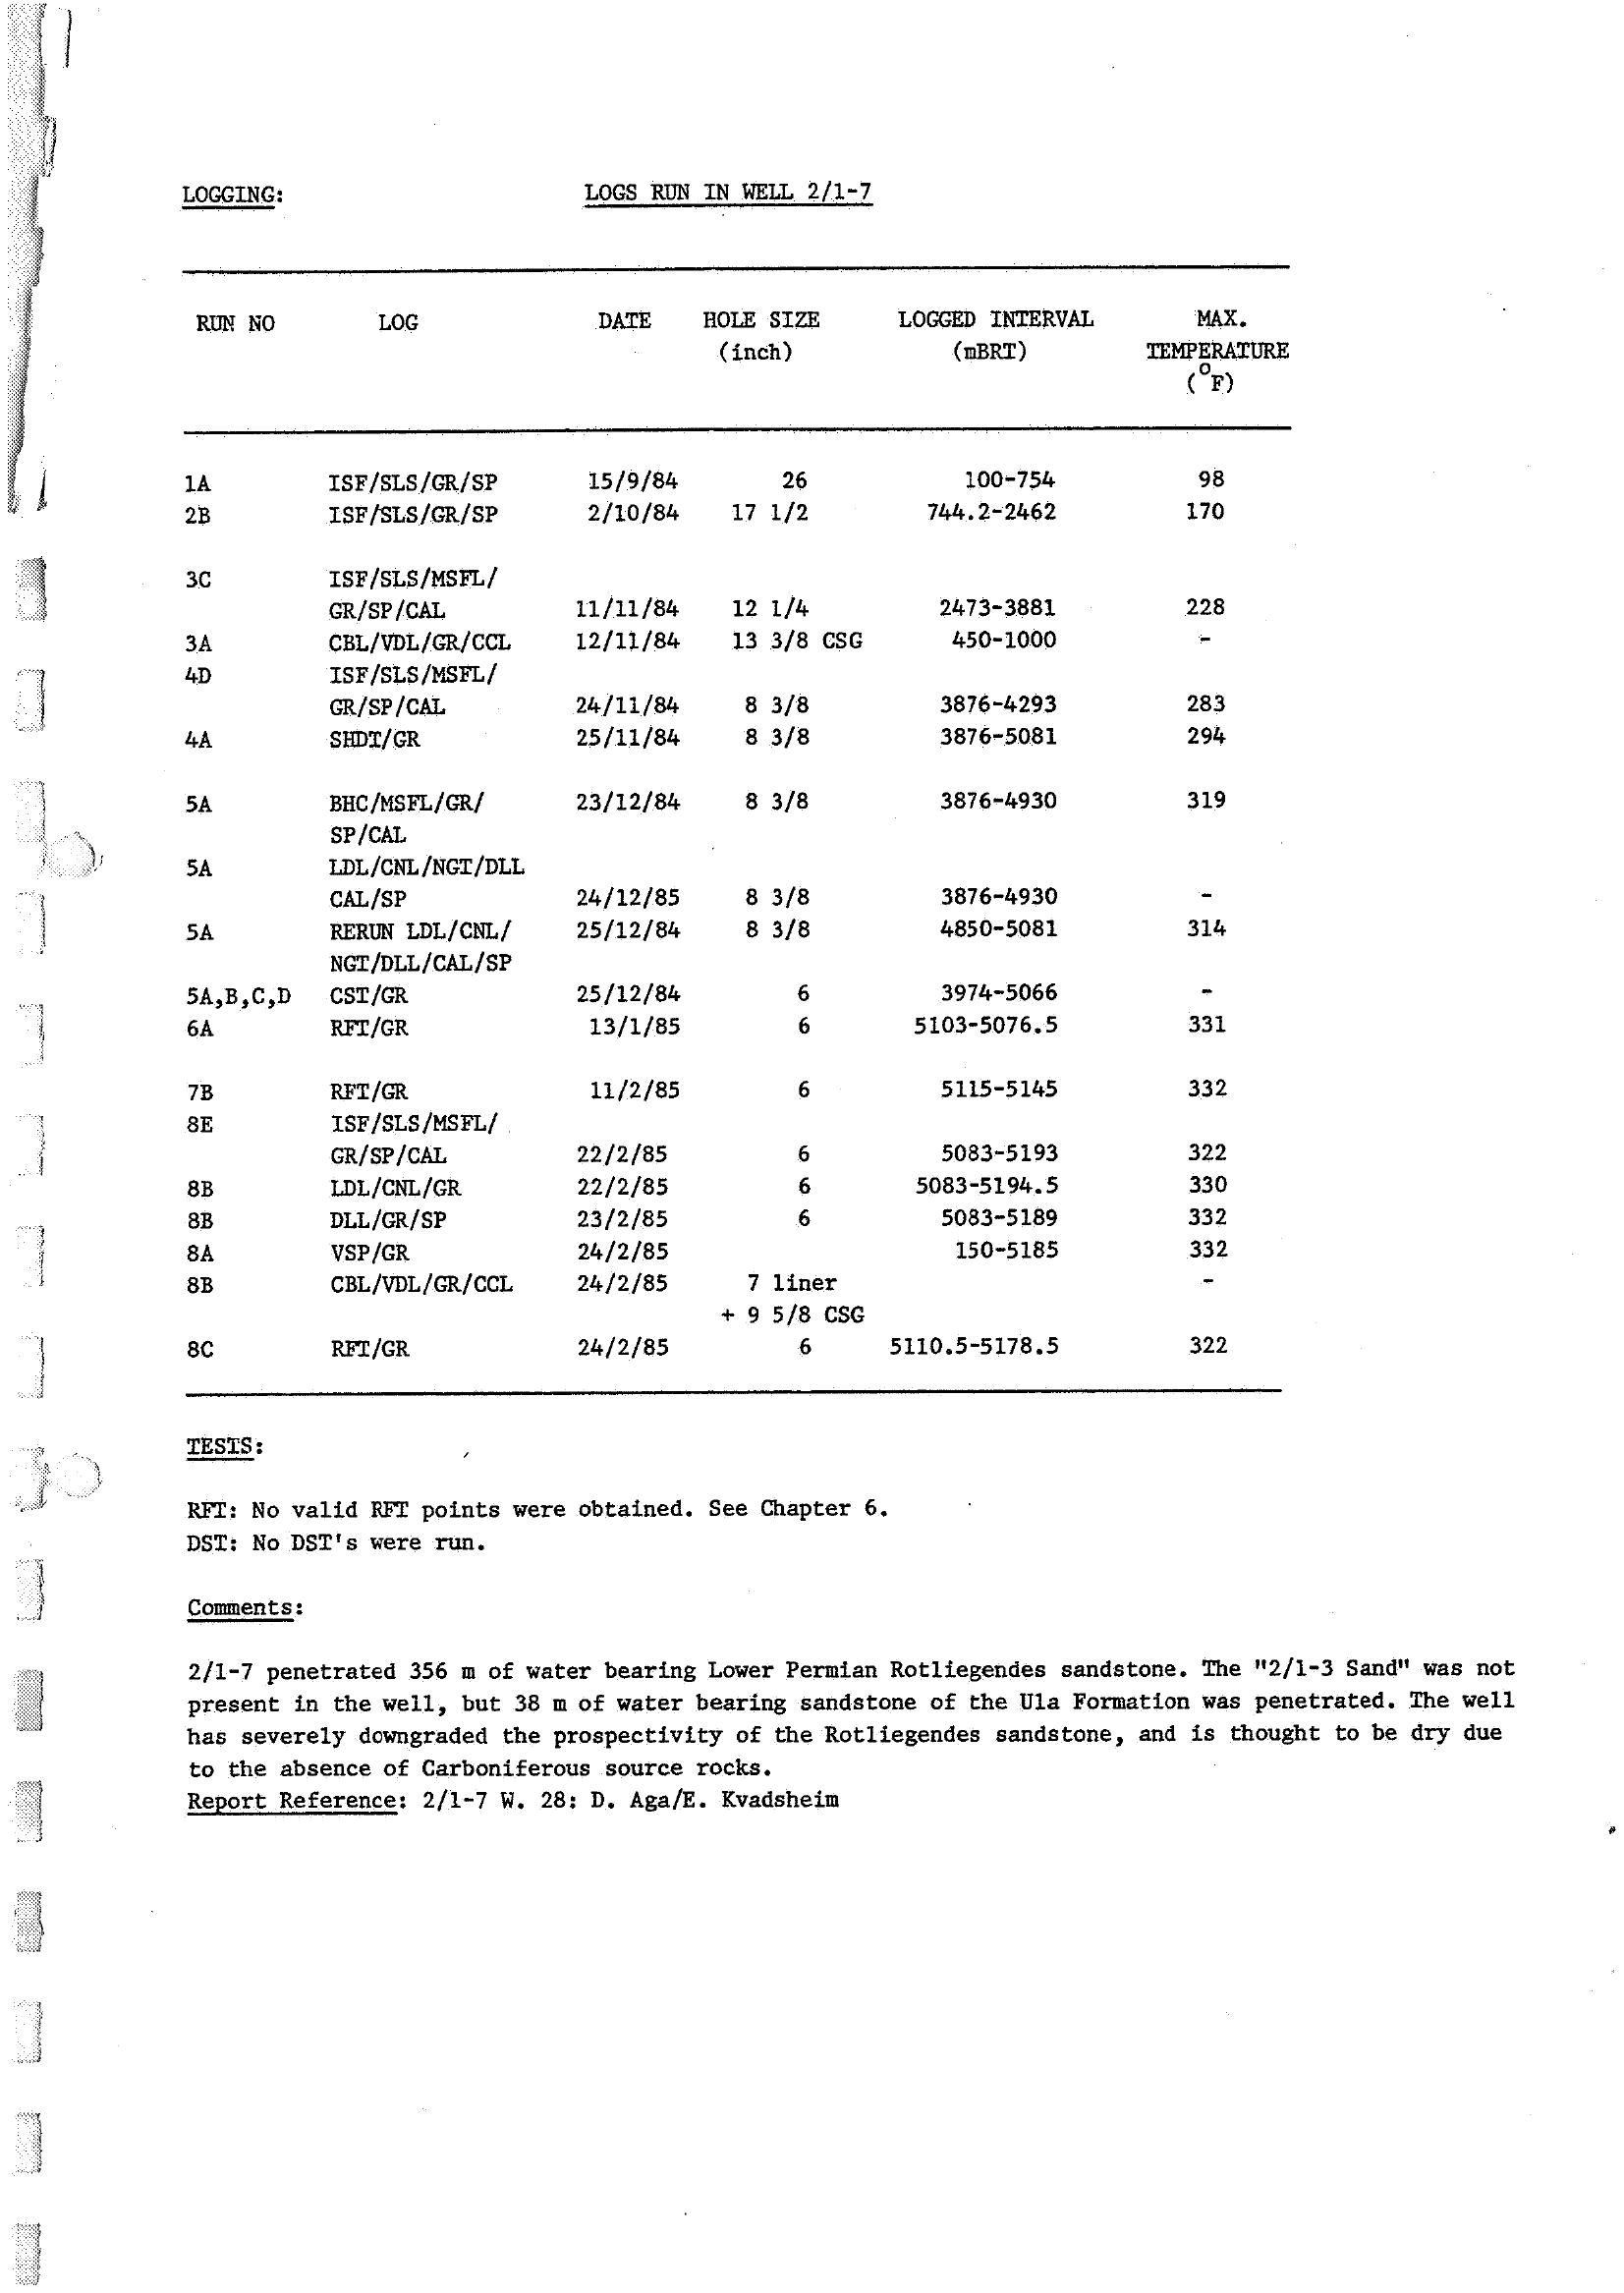table: (169, 163, 1350, 1381)
text: (165, 1427, 1562, 1840)
